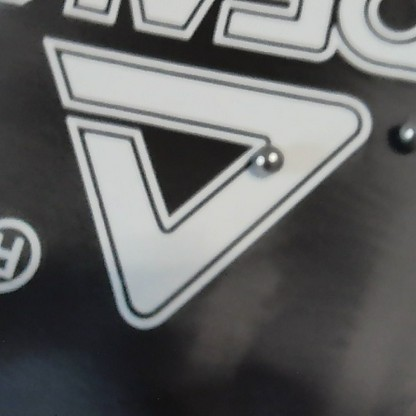ironball: (254, 146, 281, 170), (399, 118, 414, 144)
